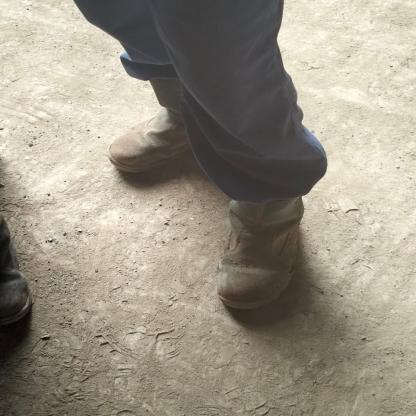bota: (212, 176, 314, 309), (99, 70, 222, 169)
